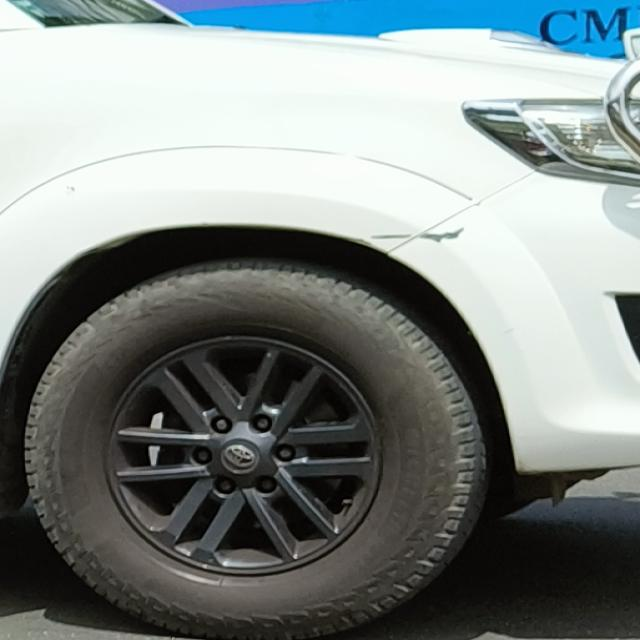scratch: (366, 219, 486, 250), (57, 183, 99, 206)
